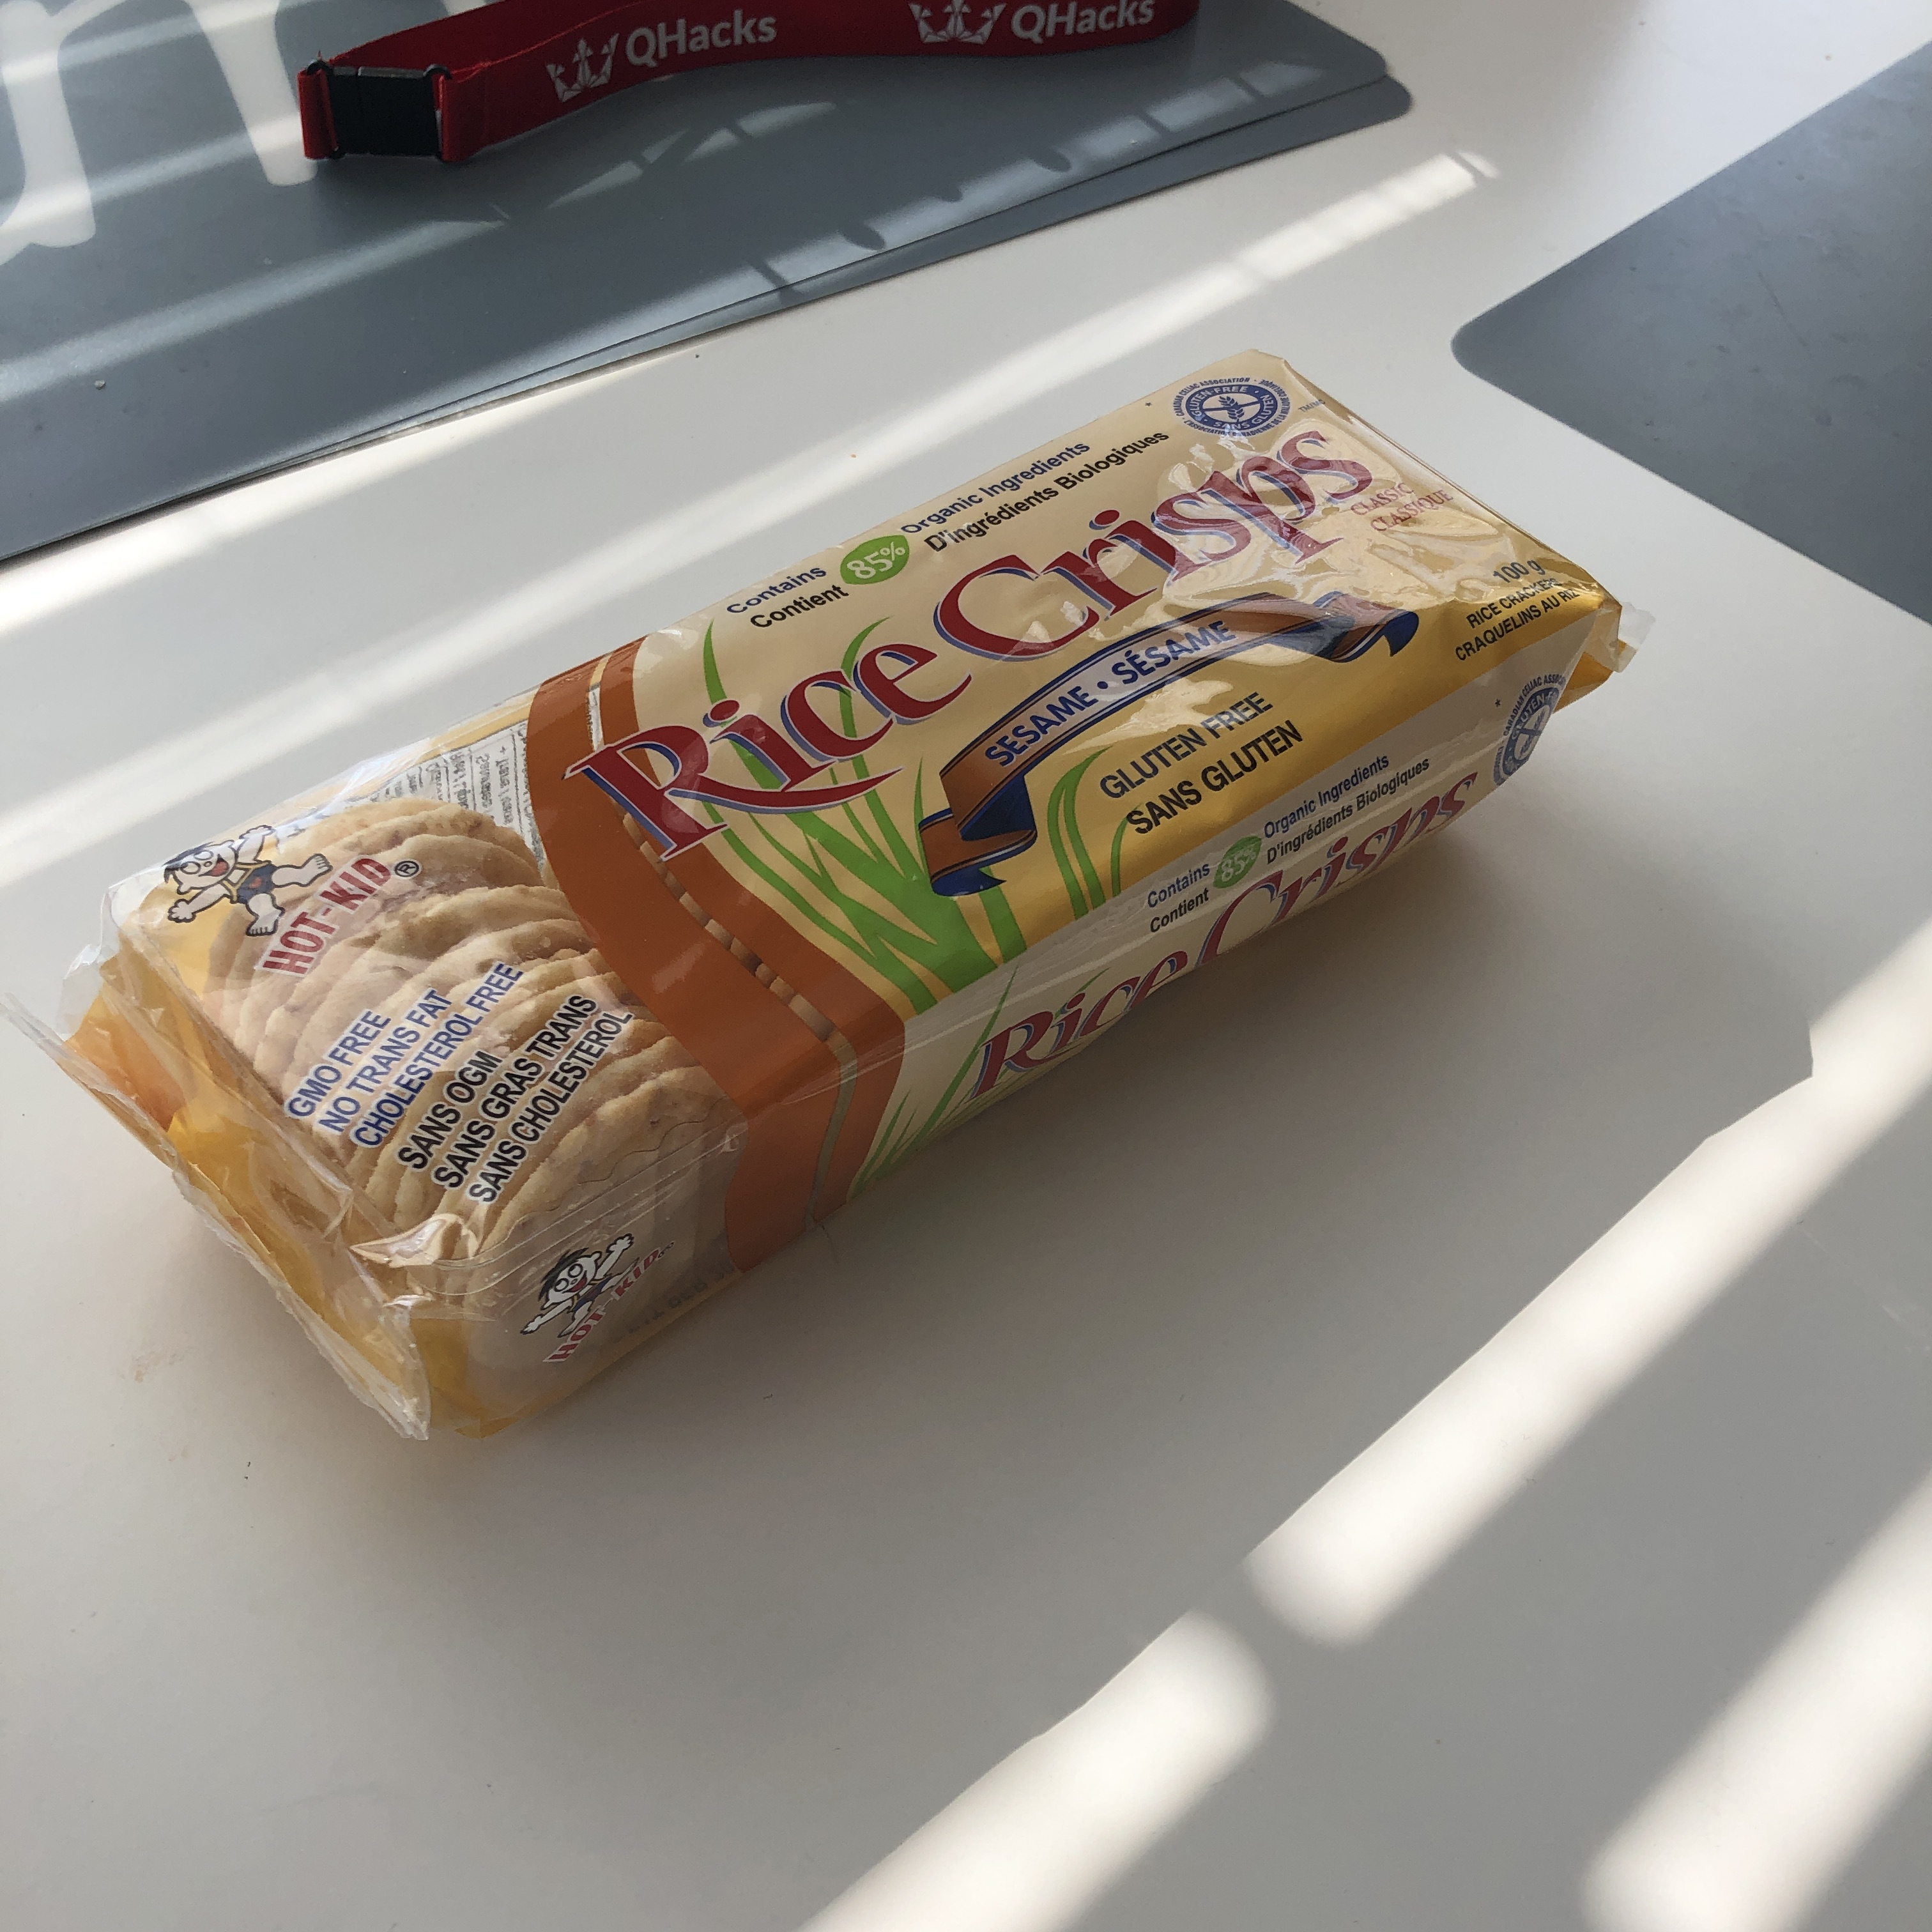hot_kid_rice_crisps_sesame: (385, 256, 1189, 1833)
